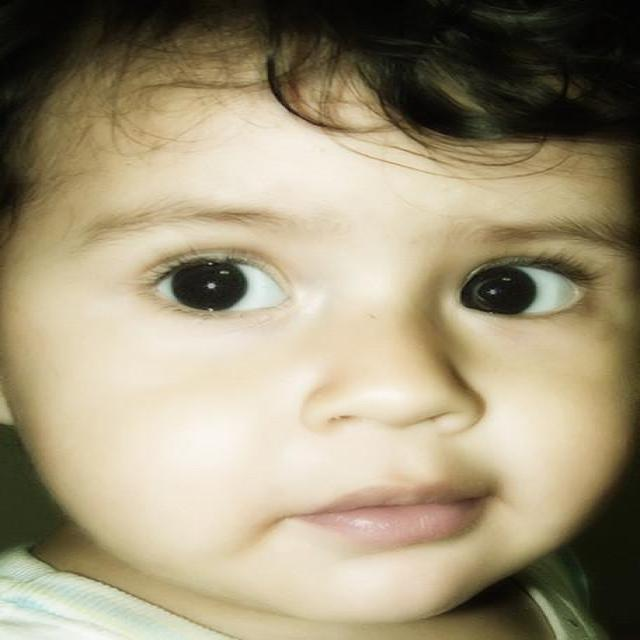no-glass: (152, 248, 609, 319)
